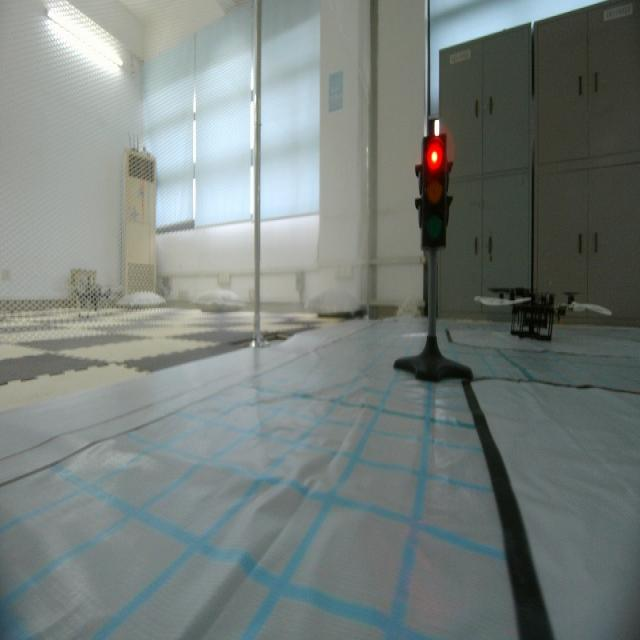red: (417, 132, 453, 257)
